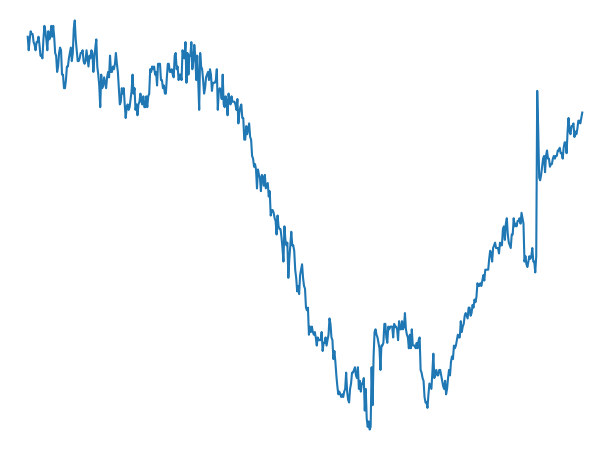decrease: (152, 25, 260, 152)
